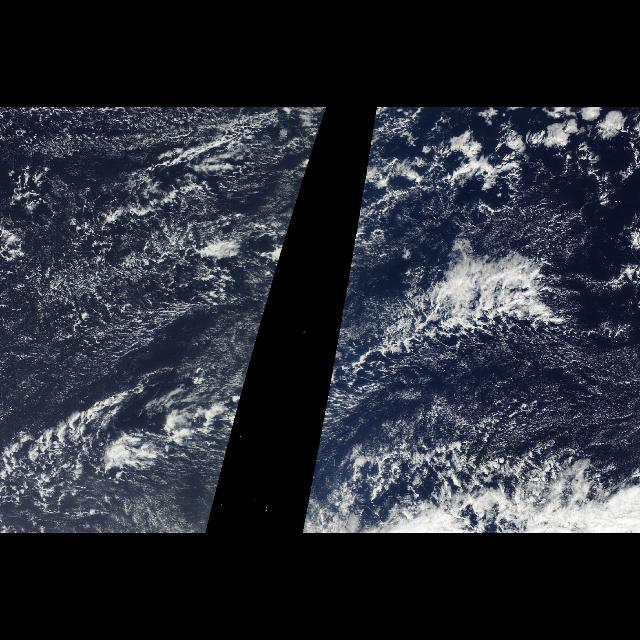Fish: (302, 240, 608, 532), (1, 242, 285, 534)
Flower: (436, 109, 638, 208)
Gravel: (1, 108, 329, 398), (324, 259, 456, 413)
Sugar: (416, 341, 632, 443)
